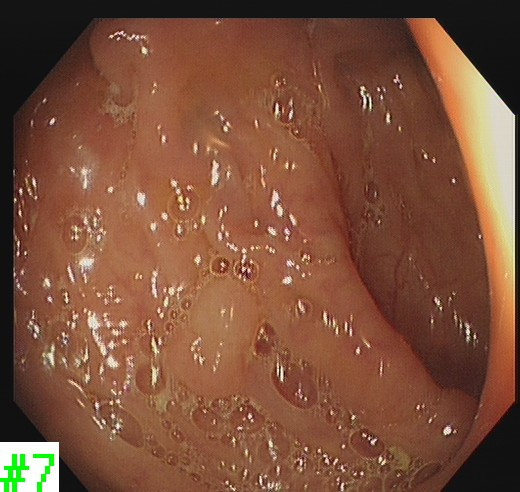adenoma: (170, 274, 262, 401)
